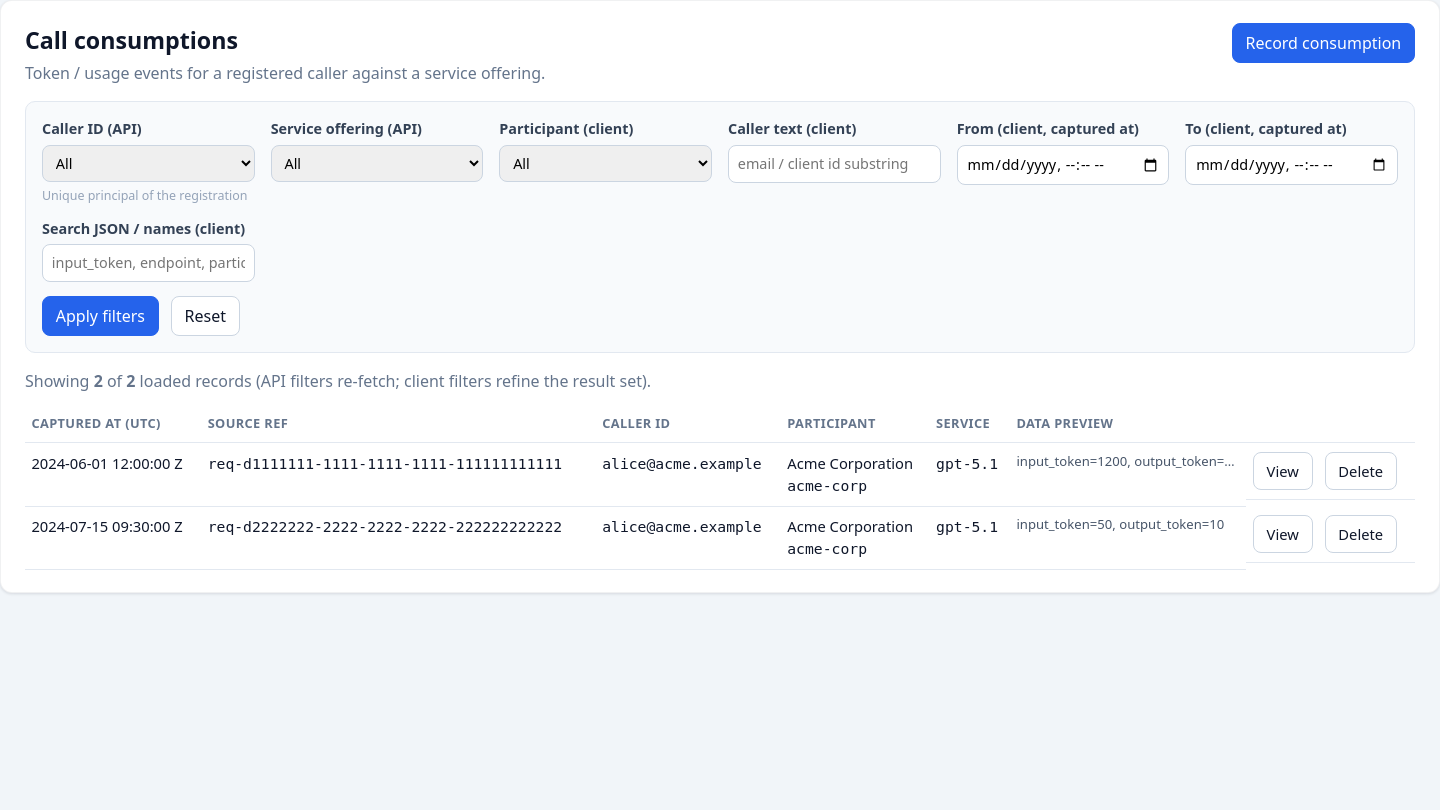
Test: Consumption pages › filters client-side by JSON query
The image size is (1440, 810).
Expected: the text "input_token=1200, output_token=340" is shown, x1=1010 y1=442 x2=1246 y2=506
Note: Match raw JSON payload of the later record only
Type "\"output_token\":10" into the field with placeholder "input_token, endpoint, participant…" at point(148, 263), box x1=42 y1=244 x2=255 y2=282
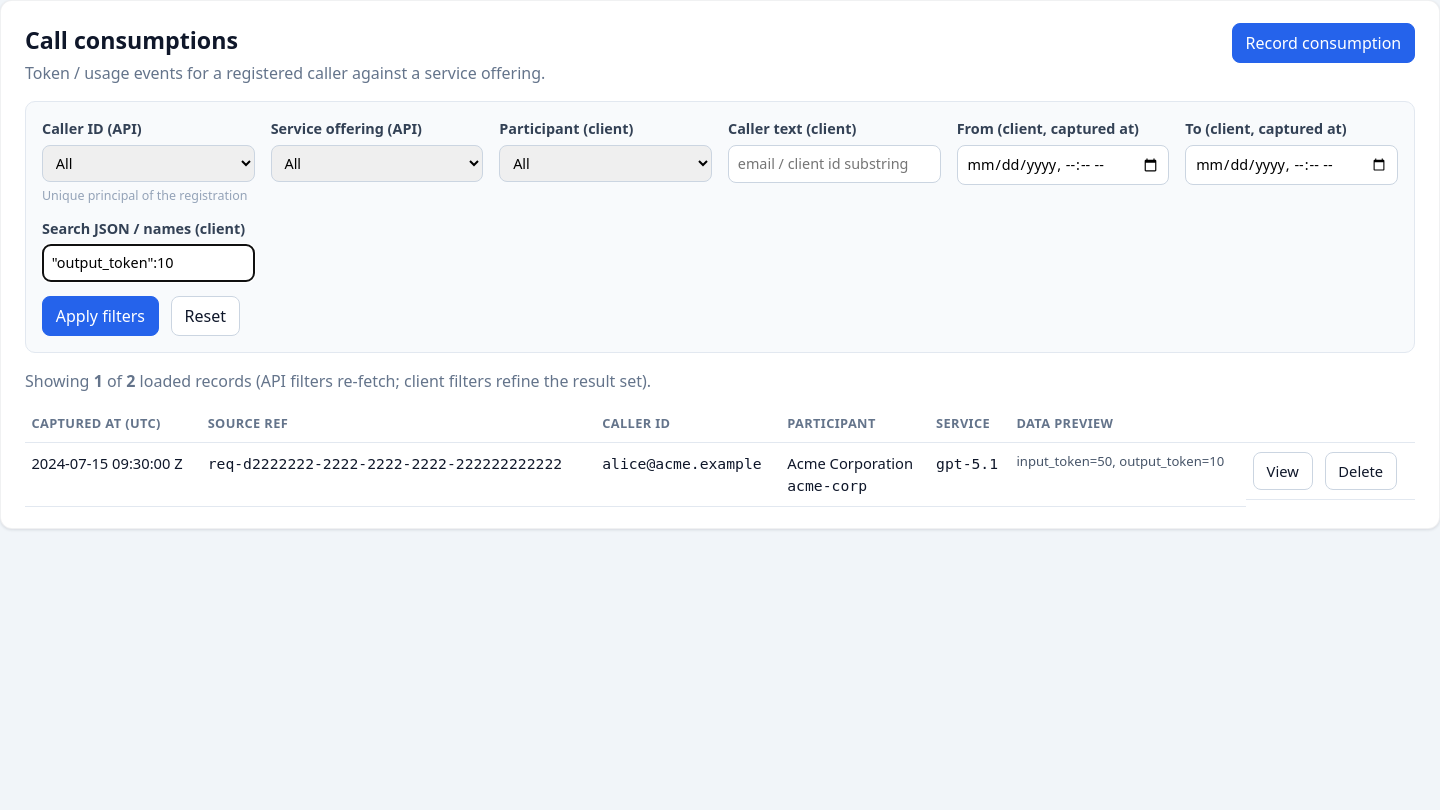
Expected: the text "input_token=50, output_token=10" is shown, x1=1010 y1=442 x2=1246 y2=506
Result: the text "input_token=1200" is gone
